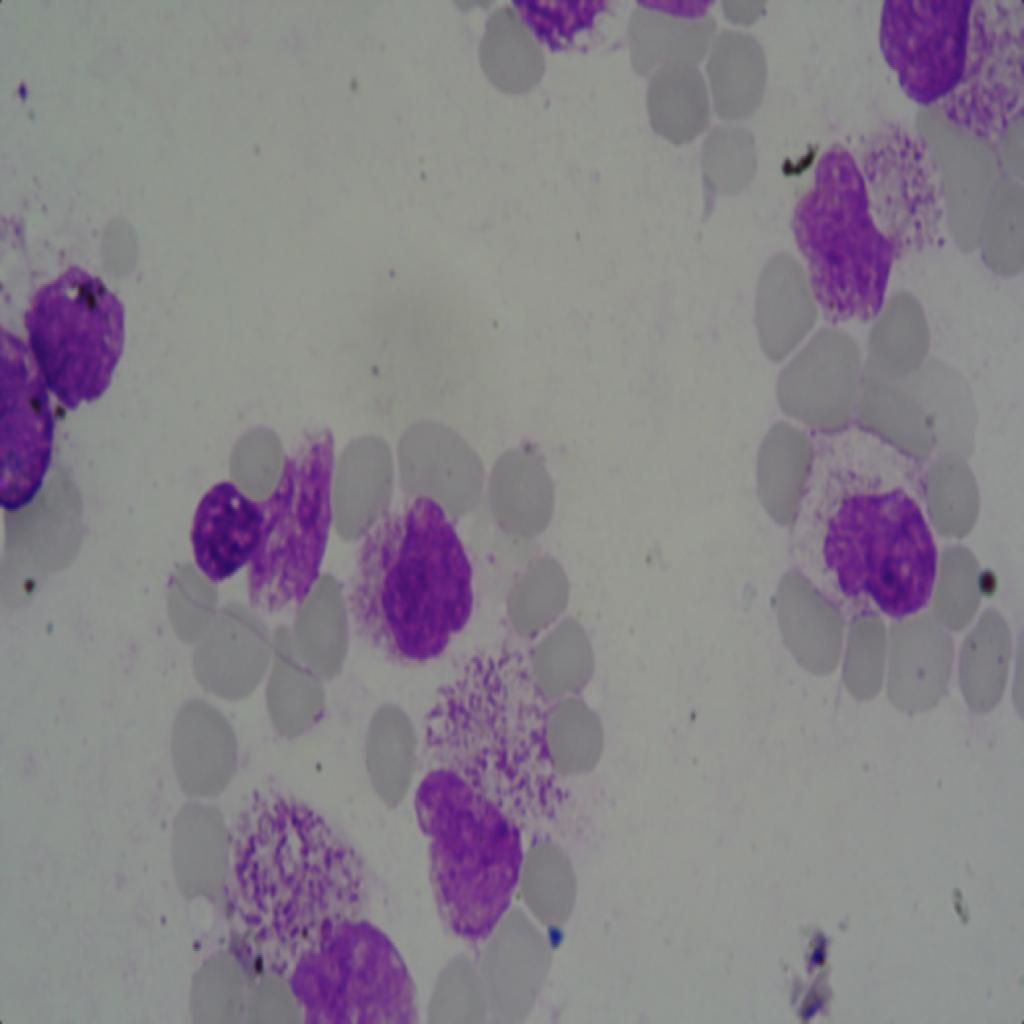Myeoblast: (180, 424, 326, 634), (784, 120, 909, 350), (409, 750, 526, 961), (349, 495, 473, 677), (820, 466, 944, 630), (275, 886, 413, 1022), (24, 262, 131, 422)
Platelet: (534, 904, 579, 966), (9, 65, 29, 105)
